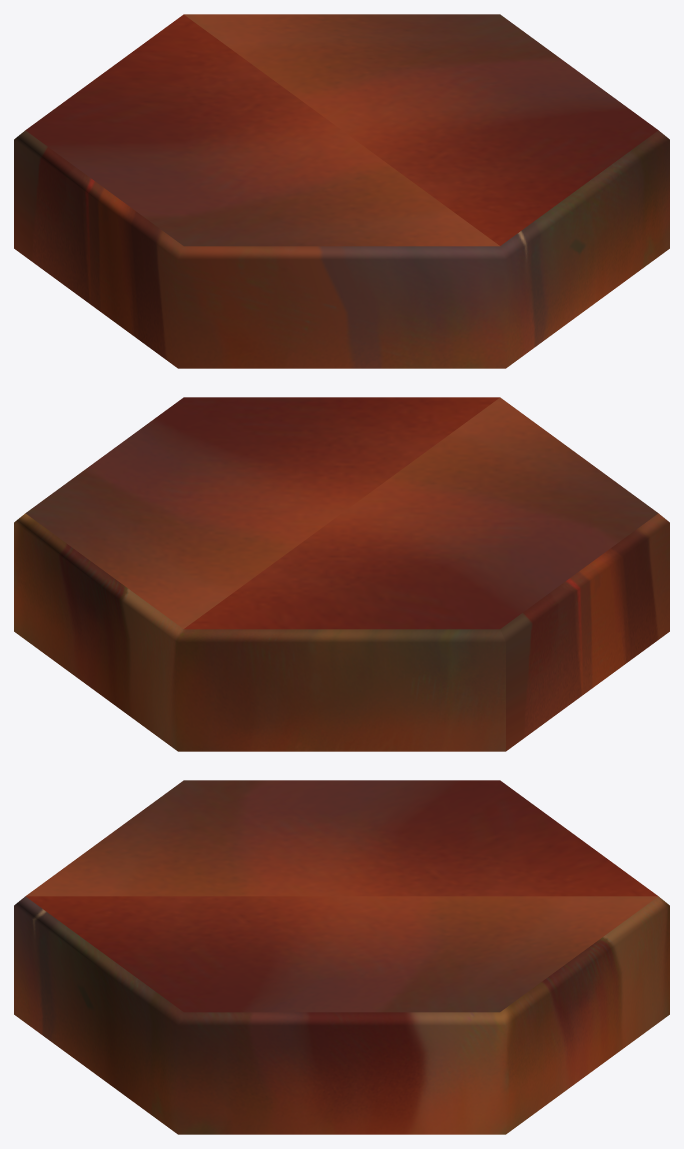
Rendered from vulcano_hex.fbx.
3 renders of one model, top to bottom at view 1: azimuth 30°, elevation 25°; view 2: azimuth 150°, elevation 25°; view 3: azimuth 270°, elevation 25°, orthographic.
Visible parts, largest first — view 1: vulcano_hex; view 2: vulcano_hex; view 3: vulcano_hex.
Boxes of the visible parts, bbox=[...] form: vulcano_hex: bbox=[14, 14, 669, 368]; vulcano_hex: bbox=[14, 397, 669, 751]; vulcano_hex: bbox=[14, 780, 669, 1134].
Bounding box in the file's own units: 83.34 × 19.14 × 96.24.
Materials: 1 (1 with a texture image).
